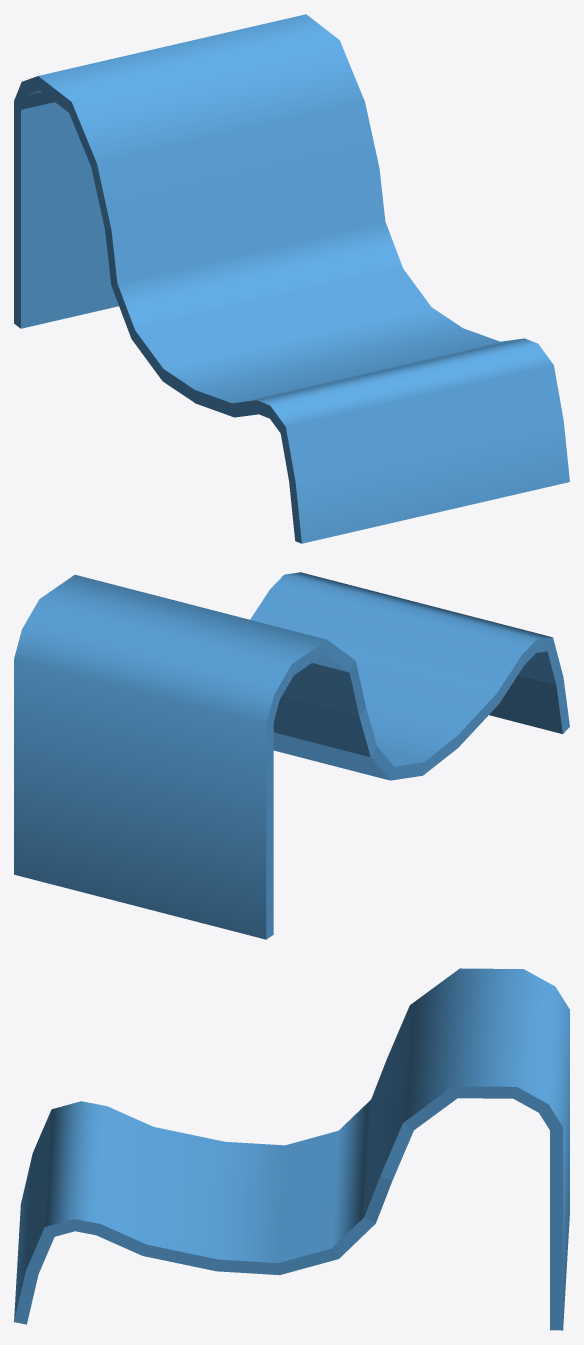
Rendered from SM_Chaire2.fbx.
3 renders of one model, top to bottom at view 1: azimuth 30°, elevation 25°; view 2: azimuth 150°, elevation 25°; view 3: azimuth 270°, elevation 25°, orthographic. The views are drawn at different scales.
Visible parts, largest first — view 1: SM_Chaire2; view 2: SM_Chaire2; view 3: SM_Chaire2.
Part boxes in pixels (x1=…): SM_Chaire2: x1=14, y1=14, x2=569, y2=543; SM_Chaire2: x1=14, y1=572, x2=569, y2=939; SM_Chaire2: x1=14, y1=968, x2=569, y2=1330.
Bounding box in the file's own units: 60.32 × 55.39 × 115.
